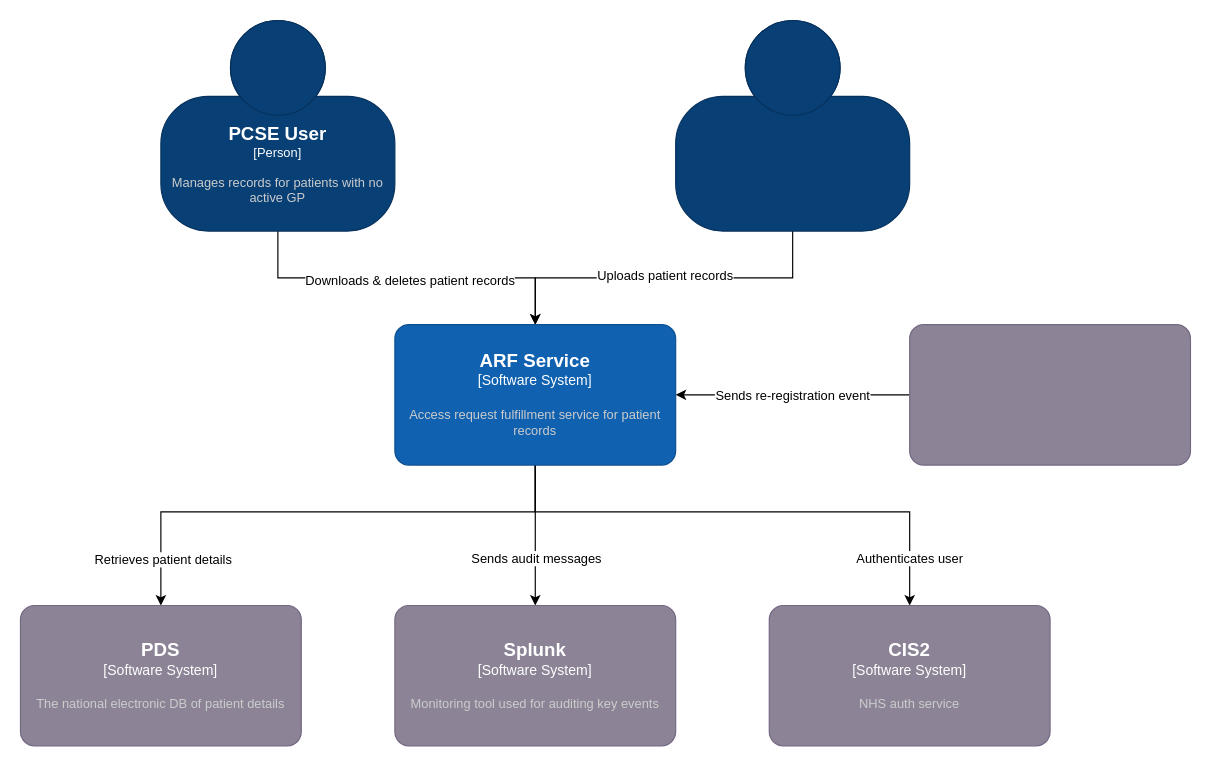
The diagram is 1211 pixels wide and 766 high, and some of its shapes have lost their labels. The box of each missing label's shape, as (x1, y1, x2, y2) in pixels:
GP Practice User [Person] Manages records for registered patients: (675, 19, 910, 231)
SPINE [Software System] Sends re-registration NEMS messages: (909, 324, 1190, 465)
